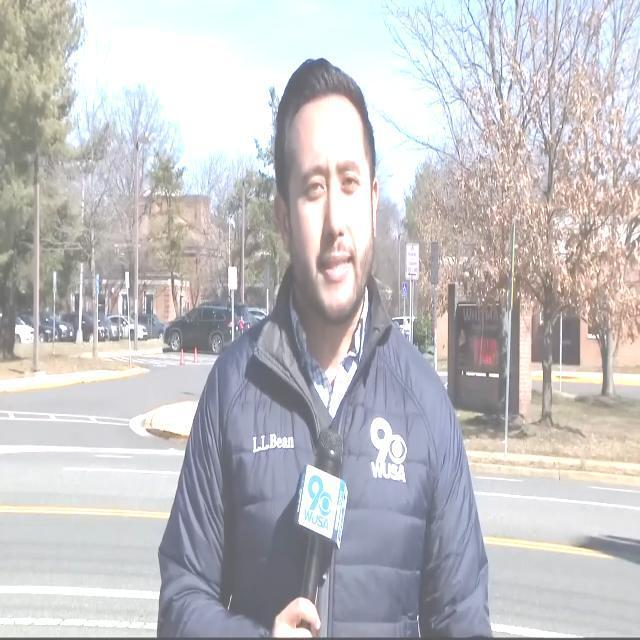non-fight: (189, 34, 480, 640)
